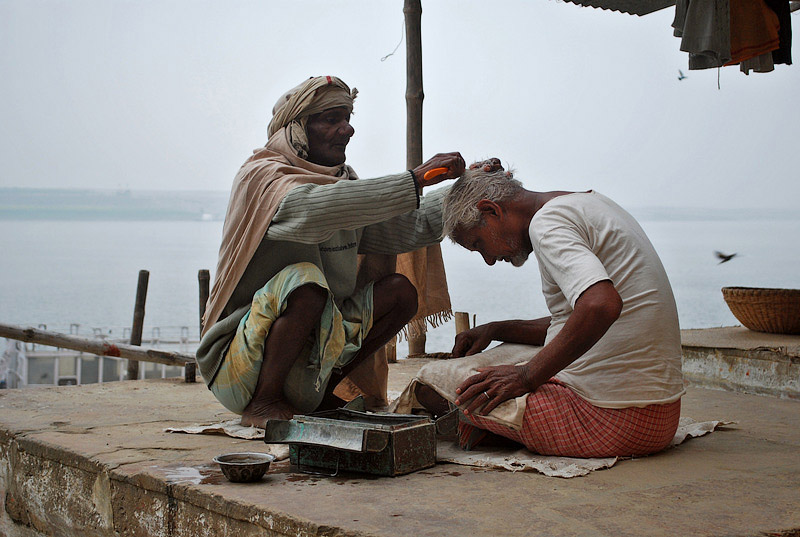Person: (196, 75, 505, 429), (414, 169, 684, 455)
